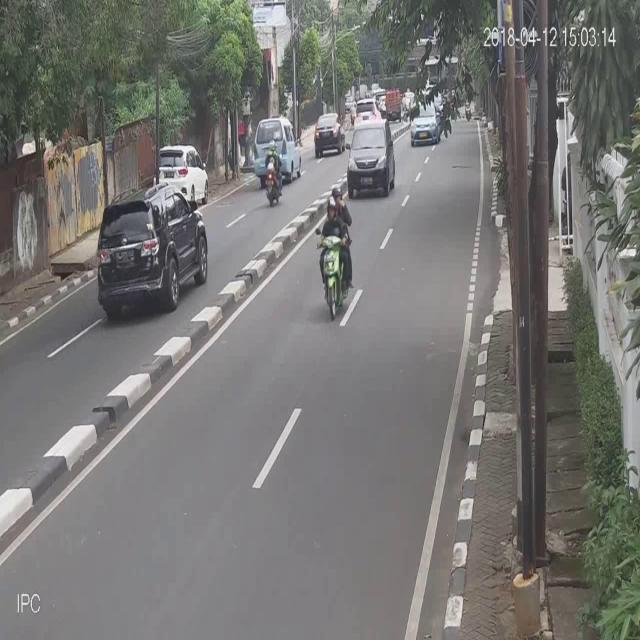bus: (315, 184, 355, 322), (264, 133, 282, 205)
motorcycle: (95, 186, 211, 320), (348, 116, 397, 196), (155, 139, 209, 205), (254, 112, 302, 181), (314, 109, 344, 155)
